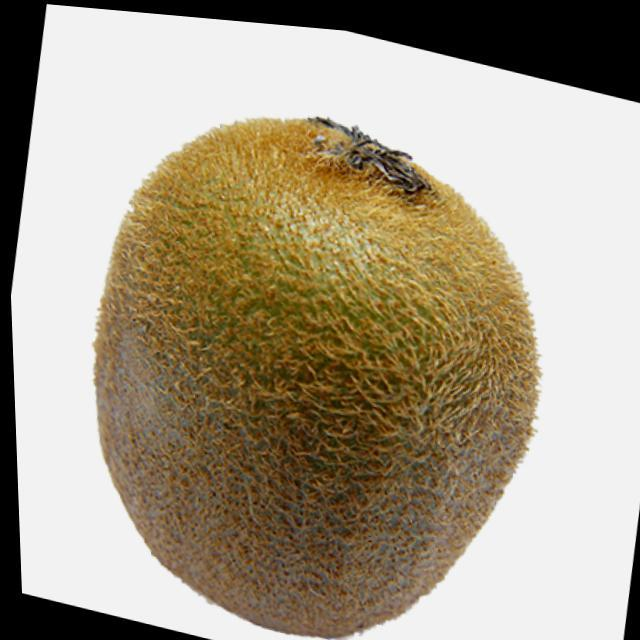kiwi: (37, 59, 584, 640)
